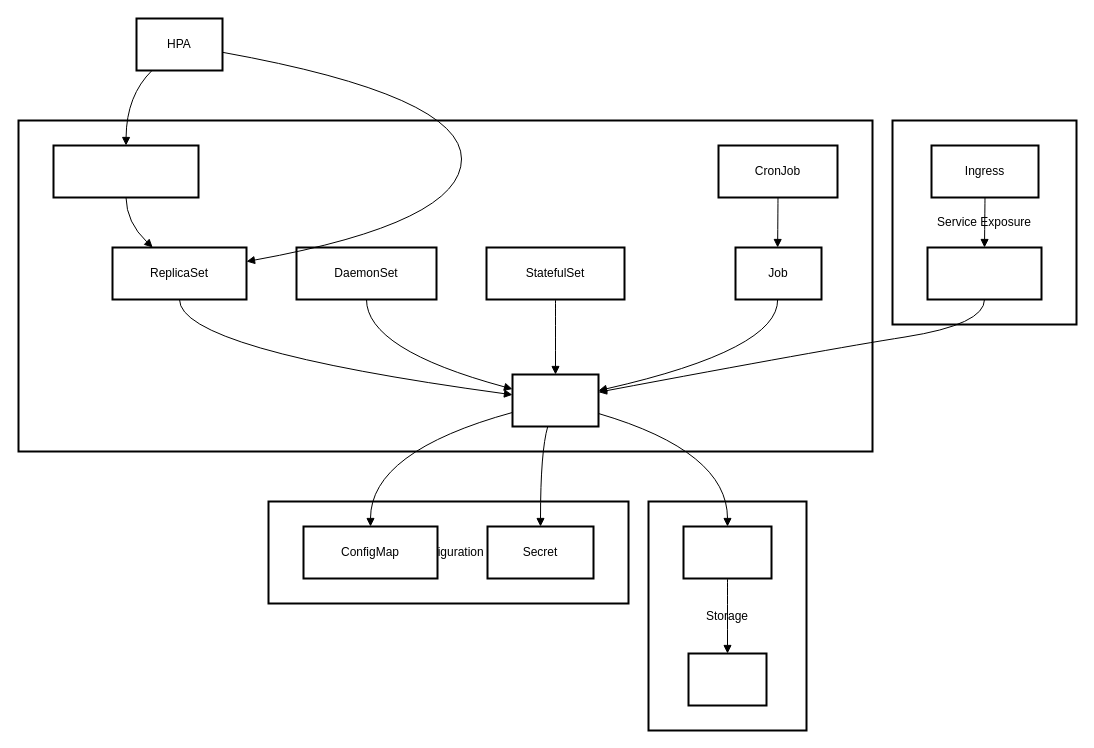
This 1094x748 diagram has some shape labels left out. The shapes that lost their labels are listed below. From the top down, each one's box as (x1, y1, x2, y2) in pixels, then its label:
(52, 144, 199, 198): Deployment
(17, 119, 873, 452): Pod Management
(926, 246, 1042, 300): Service
(511, 373, 599, 427): Pod
(682, 525, 772, 579): PVC
(687, 652, 767, 706): PV
